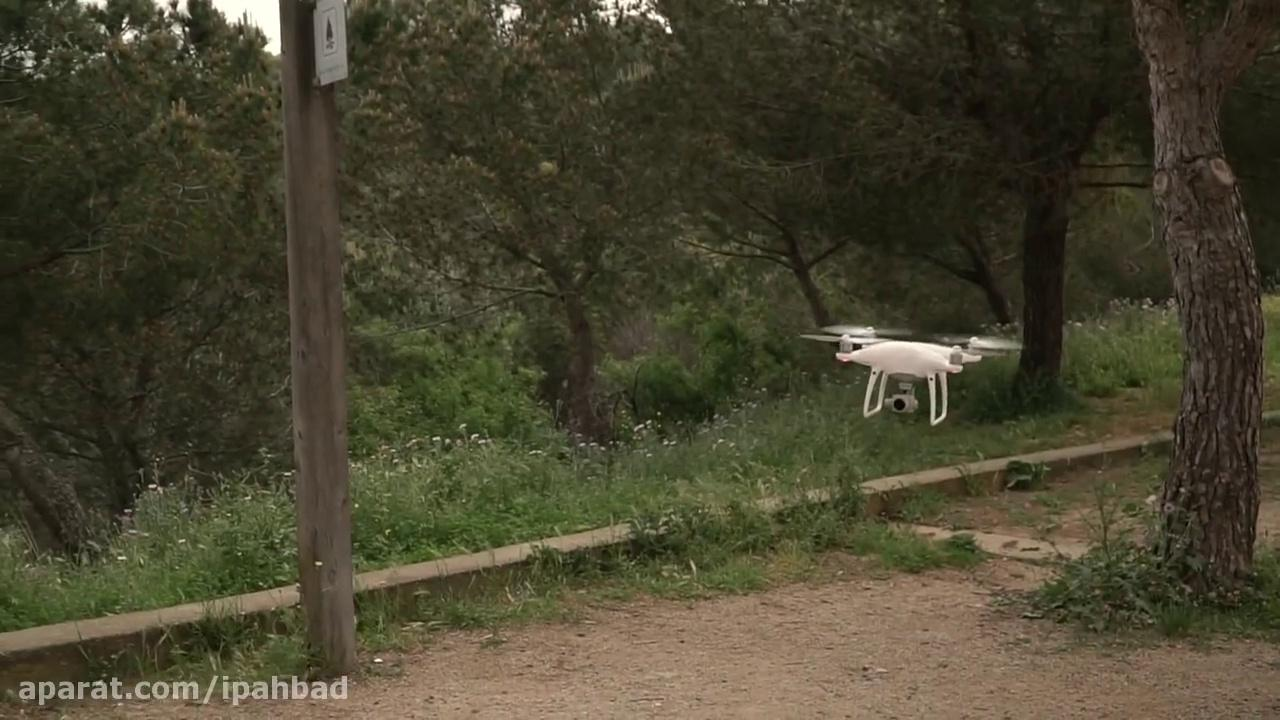drone: (796, 319, 1025, 425)
